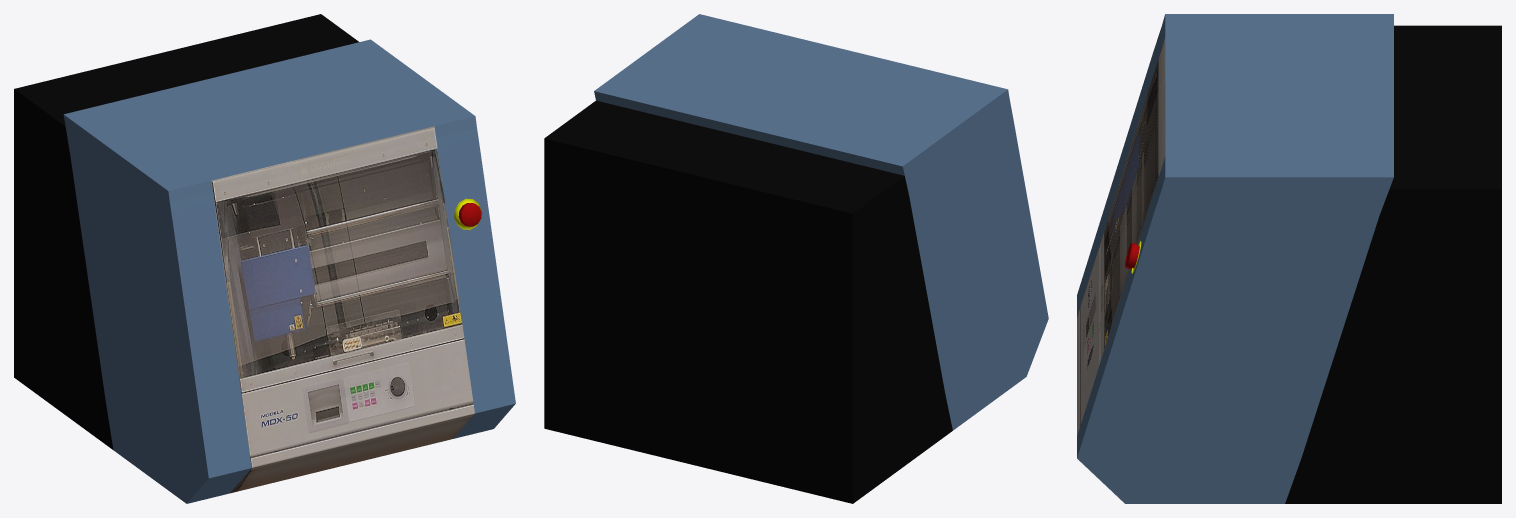
File: MillingMc.glb
3 renders of one model, left to right at view 1: azimuth 30°, elevation 25°; view 2: azimuth 150°, elevation 25°; view 3: azimuth 270°, elevation 25°, orthographic. The views are drawn at different scales.
Visible parts, largest first — view 1: Box001, millMcFront, Cylinder001; view 2: Box001; view 3: Box001, millMcFront.
Boxes of the visible parts, x1,y1,x2,y2 form: Box001: [14, 14, 515, 503]; millMcFront: [211, 126, 474, 493]; Cylinder001: [454, 198, 481, 229]; Box001: [544, 14, 1048, 503]; Box001: [1077, 14, 1501, 503]; millMcFront: [1077, 37, 1165, 435].
Size of the model in its own units: 80.04 by 74.58 by 87.96.
5 materials, 1 textured.
